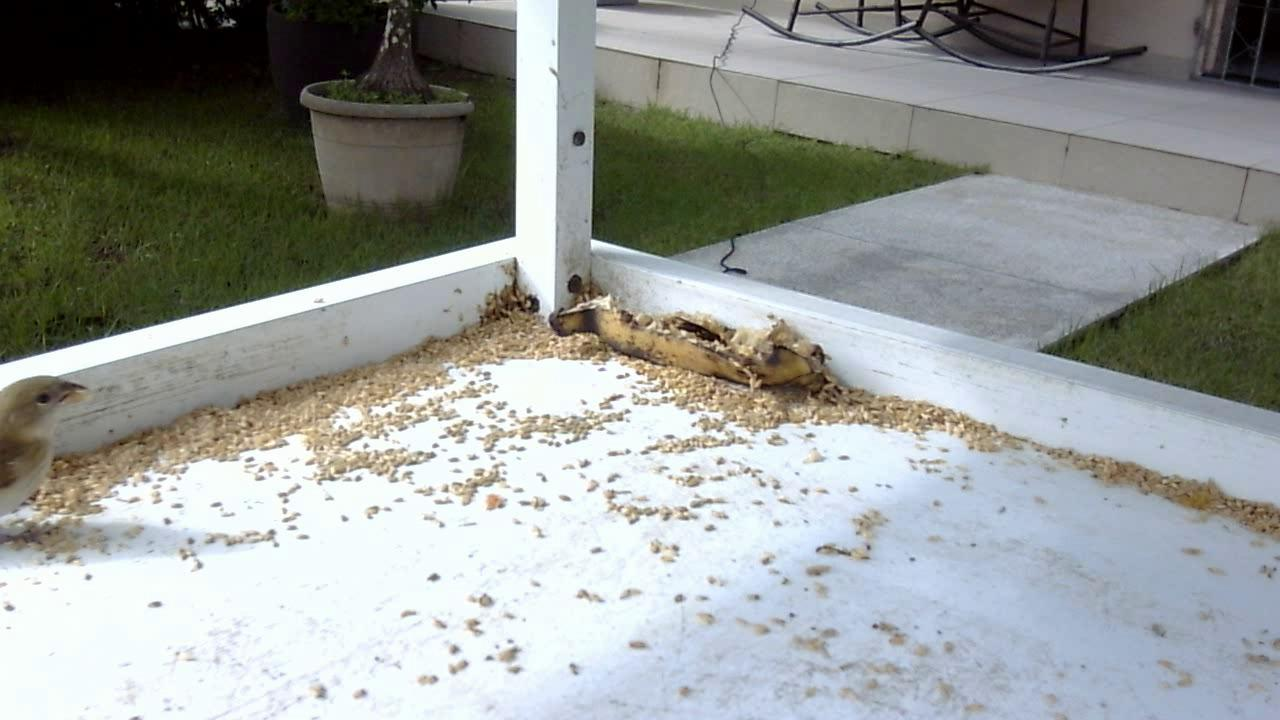canario_do_amazonas: (1, 373, 100, 548)
